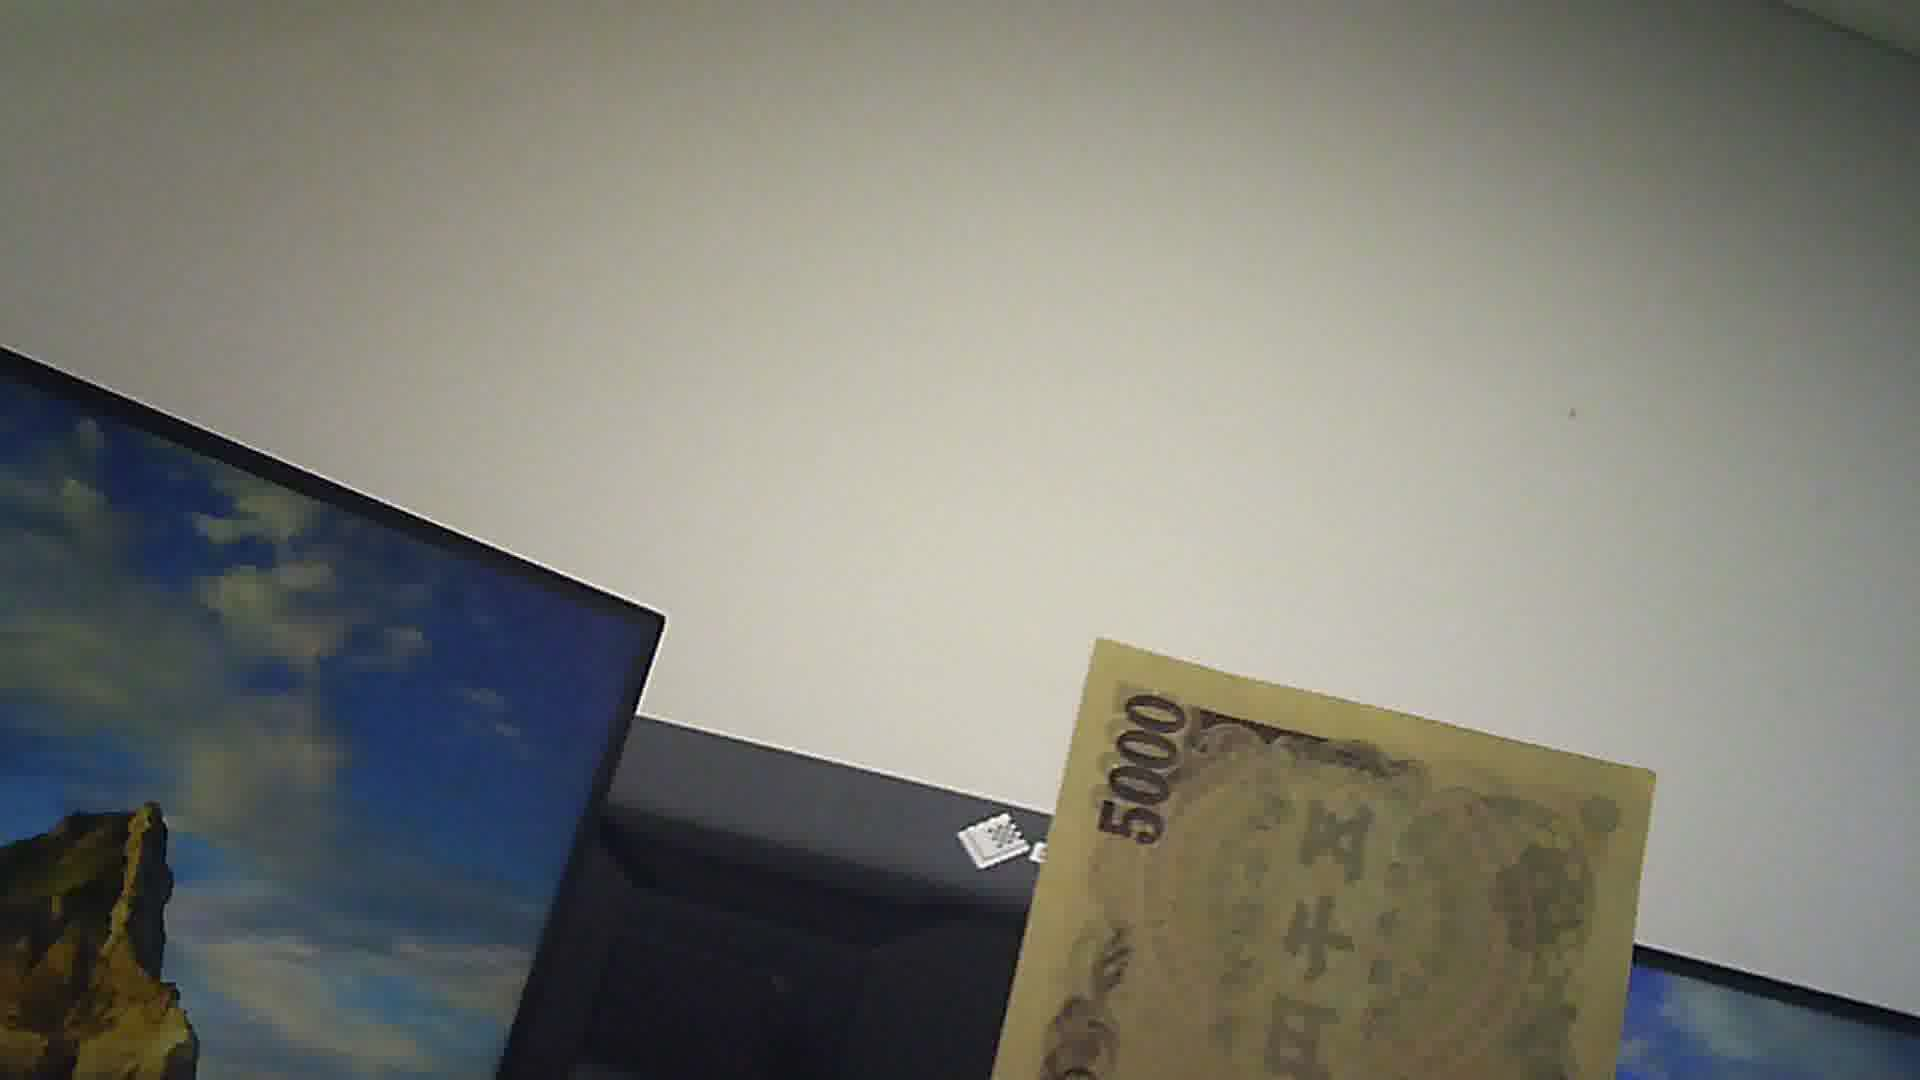5,000 Yen: (977, 647, 1640, 1073)
